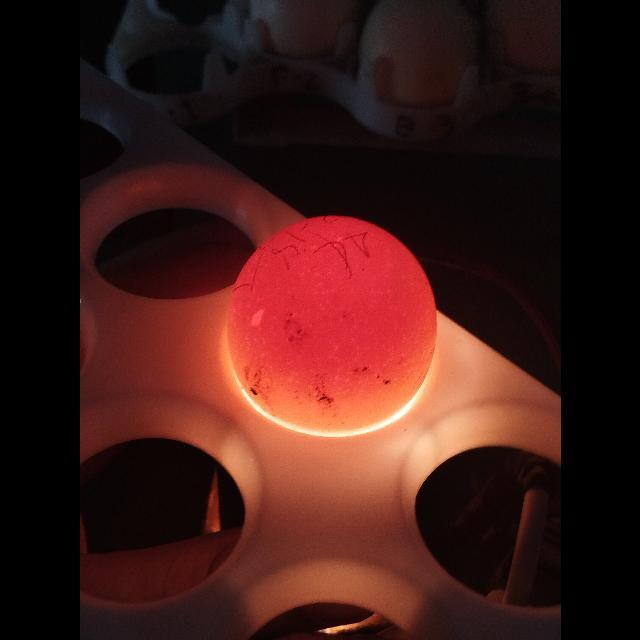Infertile: (222, 212, 440, 440)
